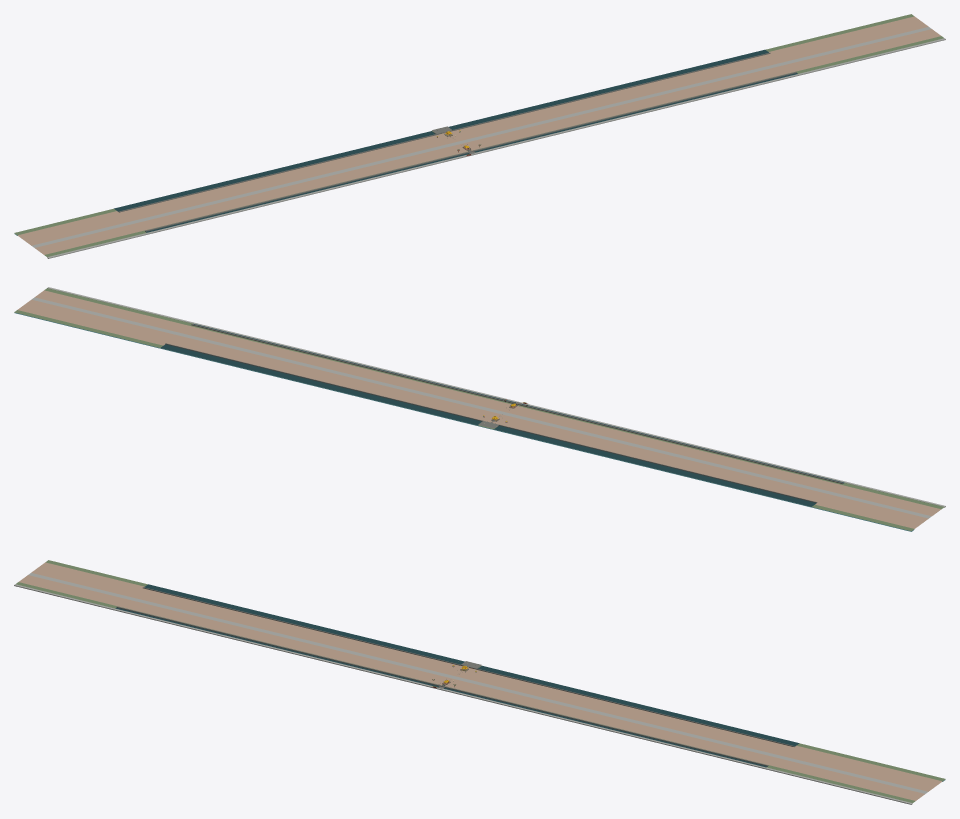
Rendered from T28_ho_thanh_hao_nam_phu_van_lau.glb.
The picture shows the model from 3 angles, top to bottom: view 1: azimuth 30°, elevation 25°; view 2: azimuth 150°, elevation 25°; view 3: azimuth 330°, elevation 25°; orthographic projection.
Visible parts, largest first — view 1: T28_V2_Satellite_Seamless_Base, Landscape_Moat; view 2: T28_V2_Satellite_Seamless_Base, Landscape_Moat; view 3: T28_V2_Satellite_Seamless_Base, Landscape_Moat.
Part boxes in pixels (x1=…): T28_V2_Satellite_Seamless_Base: x1=14, y1=14, x2=945, y2=258; Landscape_Moat: x1=114, y1=49, x2=797, y2=232; T28_V2_Satellite_Seamless_Base: x1=14, y1=287, x2=945, y2=531; Landscape_Moat: x1=161, y1=324, x2=844, y2=506; T28_V2_Satellite_Seamless_Base: x1=14, y1=560, x2=945, y2=804; Landscape_Moat: x1=115, y1=584, x2=799, y2=767.
Size of the model in its own units: 2700 by 16.12 by 180.
24 materials, 3 textured.
